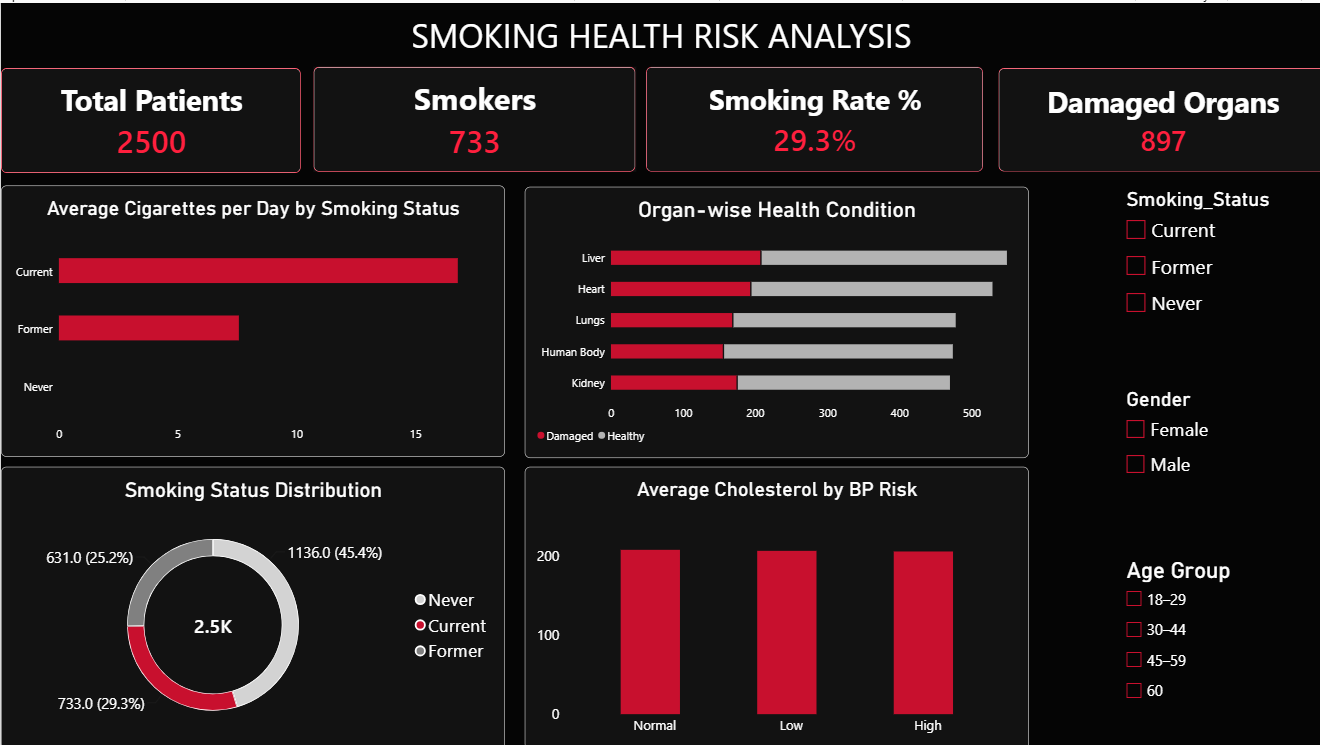

What the dashboard file says about the page in this screenshot:
{"tool":"powerbi","page":{"name":"Smoking Health Overview","canvas":[1920,1080],"ordinal":0},"visuals":[{"type":"cardVisual","fields":{"Data":["HealthData.Total Patients"]},"box":[0,94.1,434.3,152],"z":0},{"type":"cardVisual","title":"Smoking Status Distribution","fields":{"Data":["HealthData.Smokers"]},"box":[452.4,92.3,466.9,152],"z":1000},{"type":"cardVisual","fields":{"Data":["HealthData.Smoking Rate %"]},"box":[933.8,92.3,488.6,152],"z":2000},{"type":"cardVisual","fields":{"Data":["HealthData.Damaged Organs"]},"box":[1444.1,94.1,475.9,150.2],"z":3000},{"type":"clusteredBarChart","title":"Average Cigarettes per Day by Smoking Status","fields":{"Category":["HealthData.Smoking_Status"],"Y":["Avg(HealthData.Cigarettes_Per_Day)"]},"box":[0,264.2,729.3,392.7],"z":4000},{"type":"slicer","fields":{"Values":["HealthData.Age Group"]},"box":[1621.5,801.7,235.3,246.1],"z":5000},{"type":"slicer","fields":{"Values":["HealthData.Gender"]},"box":[1621.5,555.6,235.3,166.5],"z":6000},{"type":"slicer","fields":{"Values":["HealthData.Smoking_Status"]},"box":[1621.5,266,251.5,215.3],"z":7000},{"type":"donutChart","title":"Smoking Status Distribution","fields":{"Category":["HealthData.Smoking_Status"],"Y":["Count(HealthData.Patient_ID)"]},"box":[0,671.4,729.3,409],"z":8000},{"type":"barChart","title":"Organ-wise Health Condition","fields":{"Category":["HealthData.Organ"],"Series":["HealthData.Organ_Condition"],"Y":["CountNonNull(HealthData.Patient_ID)"]},"box":[758.2,266,729.3,392.7],"z":9000},{"type":"columnChart","title":"Average Cholesterol by BP Risk","fields":{"Category":["HealthData.BP_Risk"],"Y":["Avg(HealthData.Cholesterol_Level)"]},"box":[758.2,671.4,729.3,409],"z":10000},{"type":"textbox","box":[0,12.7,1920.1,63.3],"z":11000}]}

Visuals, with their boxes in screenshot pixels (x1, y1, x2, y2), scaled from the page's 1920x1080 canvas onto the 1320x745 screenshot:
cardVisual - HealthData.Total Patients: <bbox>0, 65, 299, 170</bbox>
"Smoking Status Distribution" cardVisual: <bbox>311, 64, 632, 169</bbox>
cardVisual - HealthData.Smoking Rate %: <bbox>642, 64, 978, 169</bbox>
cardVisual - HealthData.Damaged Organs: <bbox>993, 65, 1319, 169</bbox>
"Average Cigarettes per Day by Smoking Status" clusteredBarChart: <bbox>0, 182, 501, 453</bbox>
slicer - HealthData.Age Group: <bbox>1115, 553, 1277, 723</bbox>
slicer - HealthData.Gender: <bbox>1115, 383, 1277, 498</bbox>
slicer - HealthData.Smoking_Status: <bbox>1115, 183, 1288, 332</bbox>
"Smoking Status Distribution" donutChart: <bbox>0, 463, 501, 744</bbox>
"Organ-wise Health Condition" barChart: <bbox>521, 183, 1023, 454</bbox>
"Average Cholesterol by BP Risk" columnChart: <bbox>521, 463, 1023, 744</bbox>
textbox: <bbox>0, 9, 1319, 52</bbox>
